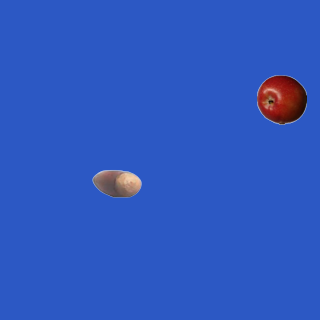Apple Braeburn: (256, 74, 306, 124)
Hazelnut: (91, 158, 141, 208)
